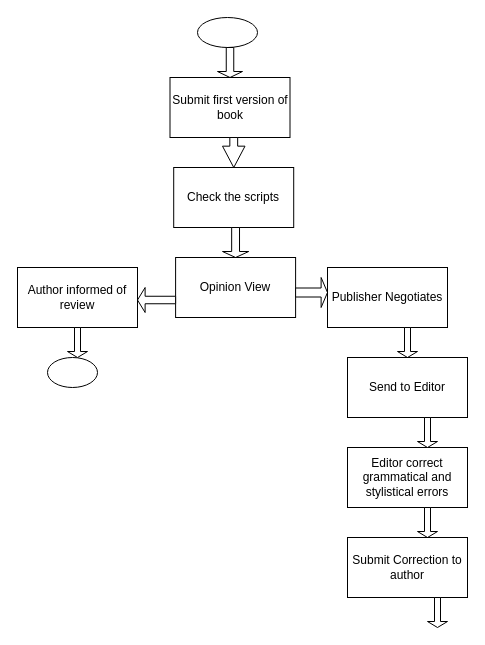
Some shapes in this 485 by 645 pixel diagram are drawn without their labels. The centre of each missing label's shape, as x and y in pixels:
End: [72,372]
No: [156,299]
Start: [227,32]
Yes: [311,292]
